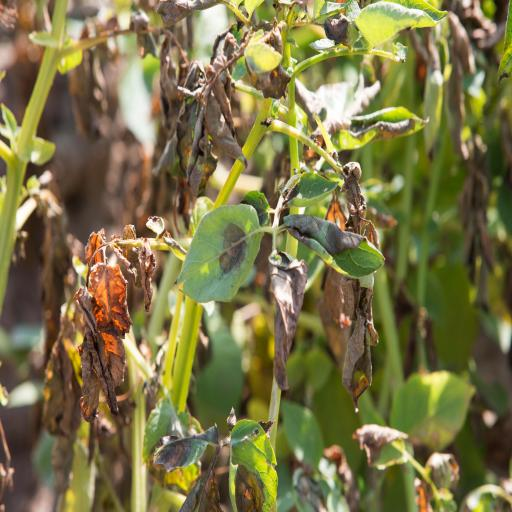Late Blight: (176, 206, 262, 302)
